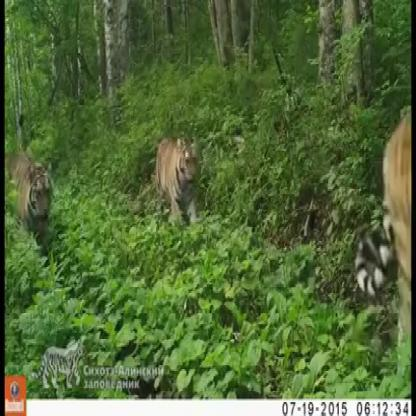Tiger: (151, 121, 204, 233), (9, 130, 58, 236)
